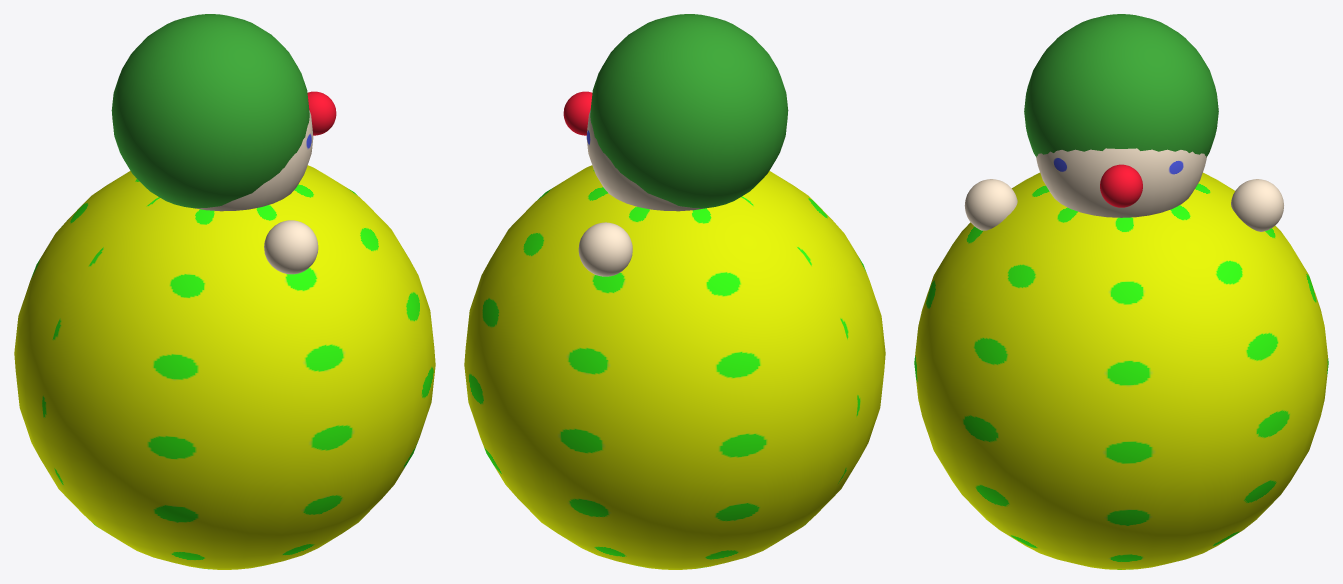
Rendered from clown_yellowgreendot.gltf.
3 renders of one model, left to right at view 1: azimuth 30°, elevation 25°; view 2: azimuth 150°, elevation 25°; view 3: azimuth 270°, elevation 25°, orthographic.
Parts seen in each view (by area): view 1: Clown; view 2: Clown; view 3: Clown.
Part boxes in pixels (left/top/right/bottom): Clown: left=14, top=14, right=435, bottom=569; Clown: left=464, top=14, right=885, bottom=569; Clown: left=914, top=14, right=1328, bottom=569.
Size of the model in its own units: 2 by 2.77 by 2.
1 material, 1 textured.
